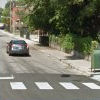crosswalk: (9, 80, 100, 89)
